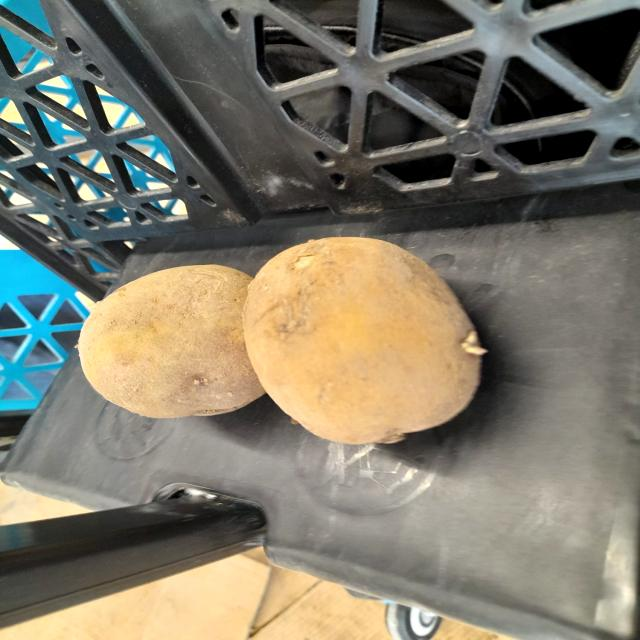potato: (239, 225, 492, 448), (60, 255, 282, 432)
